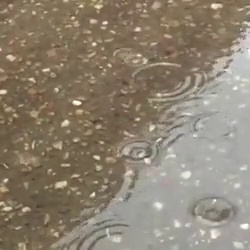drop: (130, 65, 199, 104), (66, 218, 128, 250), (193, 197, 234, 228), (191, 113, 233, 139), (118, 138, 158, 164), (115, 48, 147, 70), (14, 151, 35, 170)
